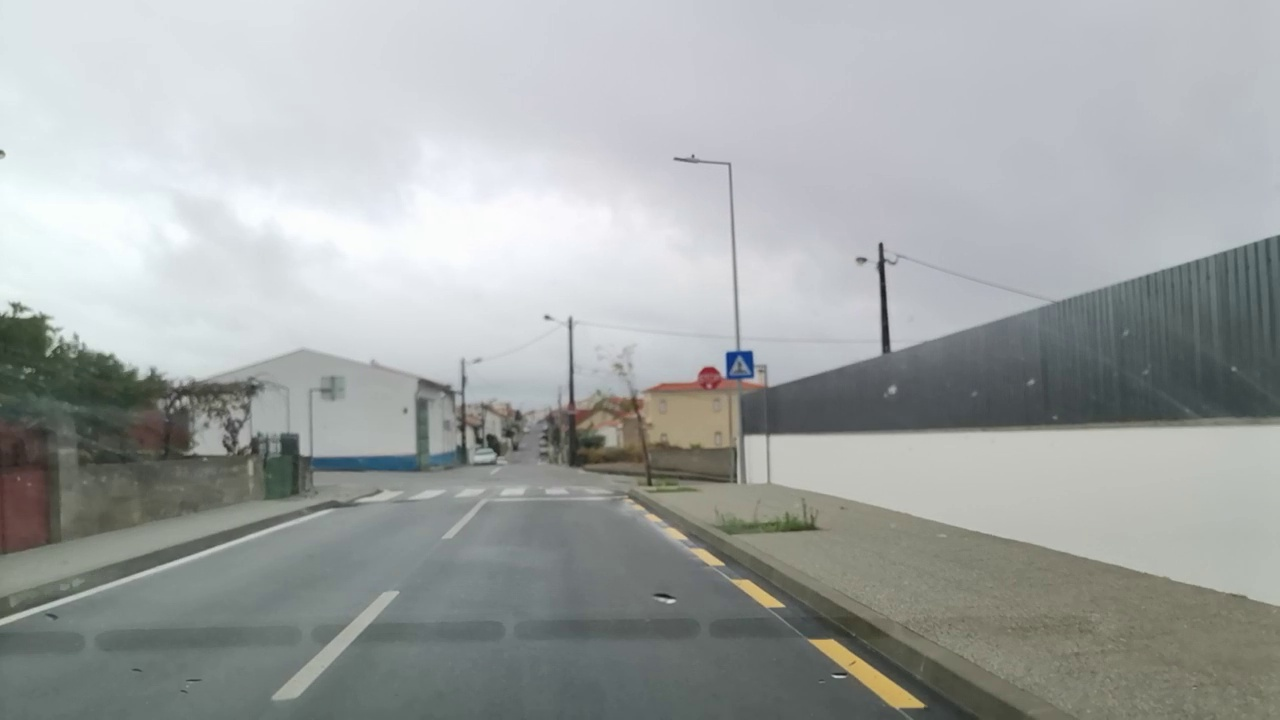Stairs: (359, 485, 620, 504)
